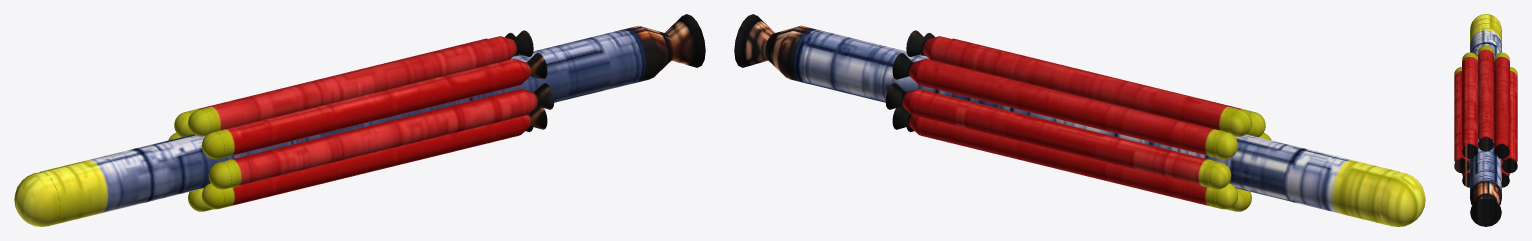
Rendered from RocketCluster.fbx.
3 renders of one model, left to right at view 1: azimuth 30°, elevation 25°; view 2: azimuth 150°, elevation 25°; view 3: azimuth 270°, elevation 25°, orthographic. The views are drawn at different scales.
Parts seen in each view (by area): view 1: RocketBig, RocketSmall.001, RocketSmall.002, RocketSmall, RocketSmall.003, RocketSmall.007, RocketSmall.004; view 2: RocketBig, RocketSmall.007, RocketSmall.006, RocketSmall, RocketSmall.005, RocketSmall.001, RocketSmall.004; view 3: RocketBig, RocketSmall, RocketSmall.001, RocketSmall.007, RocketSmall.002, RocketSmall.006, RocketSmall.003, RocketSmall.005.
Part boxes in pixels (bbox=[...]): RocketBig: bbox=[14, 14, 705, 226]; RocketSmall.001: bbox=[201, 53, 547, 159]; RocketSmall.002: bbox=[208, 83, 554, 189]; RocketSmall: bbox=[188, 30, 533, 136]; RocketSmall.003: bbox=[201, 106, 547, 209]; RocketSmall.007: bbox=[174, 32, 519, 137]; RocketSmall.004: bbox=[188, 126, 533, 211]; RocketBig: bbox=[734, 14, 1425, 226]; RocketSmall.007: bbox=[892, 53, 1238, 159]; RocketSmall.006: bbox=[885, 83, 1231, 189]; RocketSmall: bbox=[906, 30, 1251, 136]; RocketSmall.005: bbox=[892, 106, 1238, 209]; RocketSmall.001: bbox=[920, 32, 1265, 137]; RocketSmall.004: bbox=[906, 126, 1251, 211]; RocketBig: bbox=[1470, 14, 1501, 226]; RocketSmall: bbox=[1478, 45, 1493, 151]; RocketSmall.001: bbox=[1462, 52, 1477, 158]; RocketSmall.007: bbox=[1494, 52, 1509, 158]; RocketSmall.002: bbox=[1454, 67, 1469, 173]; RocketSmall.006: bbox=[1502, 67, 1517, 173]; RocketSmall.003: bbox=[1462, 161, 1469, 187]; RocketSmall.005: bbox=[1502, 161, 1509, 187].
Size of the model in its own units: 141 by 20 by 20.
2 materials, 2 textured.
